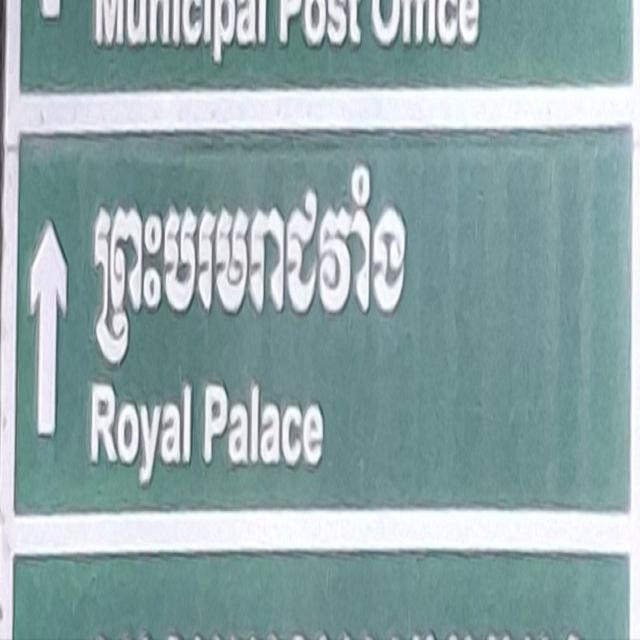Yolov11kh: (68, 148, 469, 386)
